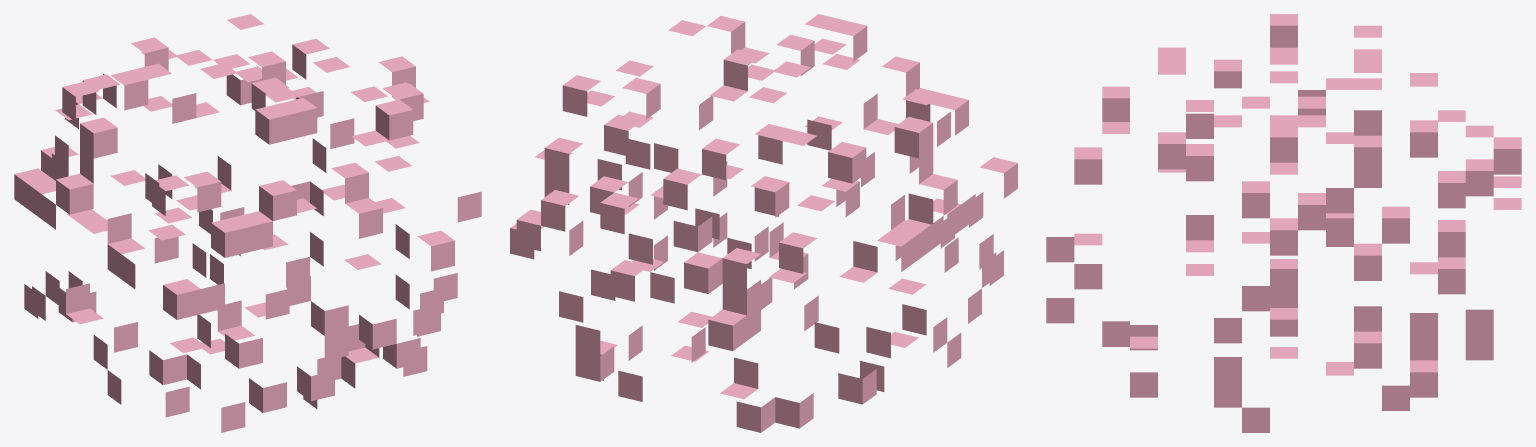
File: tree-cherry-1p25-pink1-ffb7ce.gltf
3 views of the same model, side by side, from view 1: azimuth 30°, elevation 25°; view 2: azimuth 150°, elevation 25°; view 3: azimuth 270°, elevation 25° (orthographic).
Parts seen in each view (by area): view 1: tree-cherry-1p25-pink1-ffb7ce; view 2: tree-cherry-1p25-pink1-ffb7ce; view 3: tree-cherry-1p25-pink1-ffb7ce.
Part boxes in pixels (bbox=[...]): tree-cherry-1p25-pink1-ffb7ce: bbox=[14, 14, 481, 432]; tree-cherry-1p25-pink1-ffb7ce: bbox=[510, 14, 1017, 432]; tree-cherry-1p25-pink1-ffb7ce: bbox=[1046, 14, 1521, 432].
Size of the model in its own units: 17 by 13 by 17.
